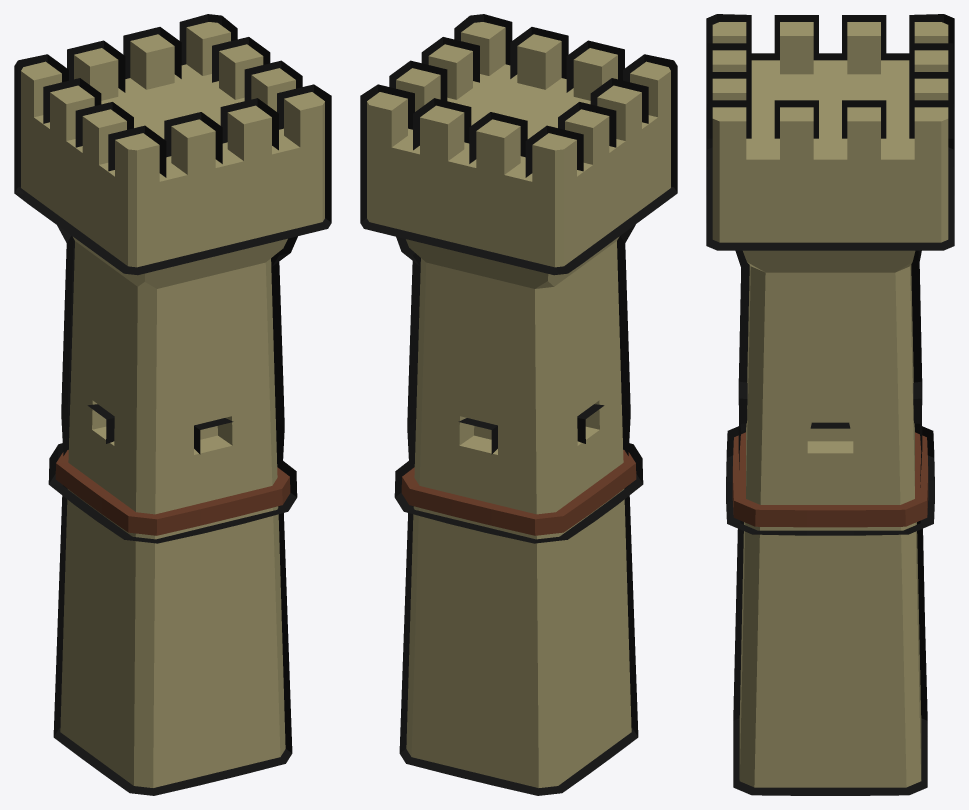
The model's file is Tower.fbx.
3 renders of one model, left to right at view 1: azimuth 30°, elevation 25°; view 2: azimuth 150°, elevation 25°; view 3: azimuth 270°, elevation 25°, orthographic. The views are drawn at different scales.
Parts seen in each view (by area): view 1: 立方体; view 2: 立方体; view 3: 立方体.
Part boxes in pixels (<box>): 立方体: <box>14,14,331,795</box>; 立方体: <box>360,14,677,795</box>; 立方体: <box>706,14,954,795</box>.
Bounding box in the file's own units: 137 × 419 × 137.
